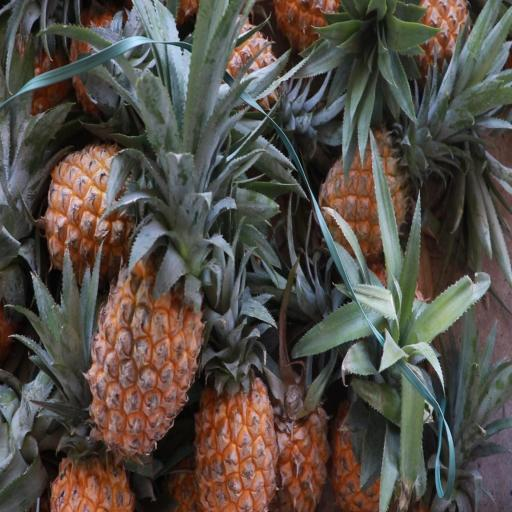Pineapple - v8 v1: (85, 222, 214, 465), (39, 130, 178, 290), (314, 118, 412, 272), (191, 357, 279, 512), (49, 366, 138, 512), (275, 362, 334, 512)
